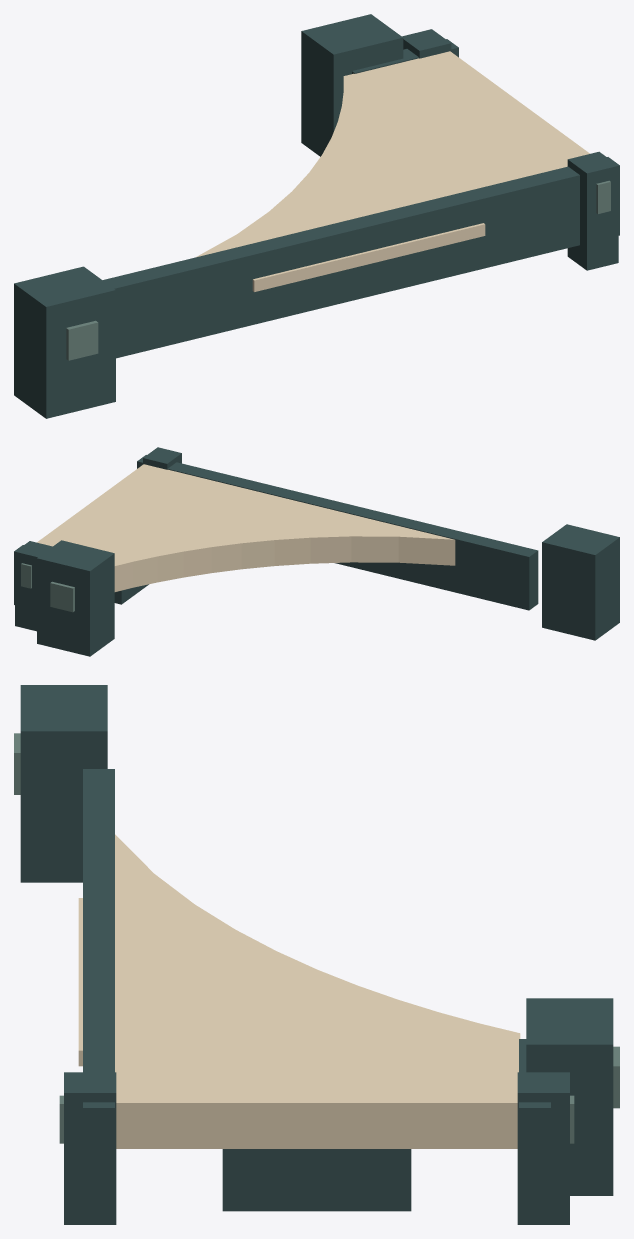
Rendered from Pier_Angled_45.glb.
3 views of the same model, one above another, from view 1: azimuth 30°, elevation 25°; view 2: azimuth 150°, elevation 25°; view 3: azimuth 270°, elevation 25° (orthographic). The views are drawn at different scales.
Parts seen in each view (by area): view 1: Pier_Angled_45; view 2: Pier_Angled_45; view 3: Pier_Angled_45.
Boxes of the visible parts, box(x1,y1,x2,y2) form: Pier_Angled_45: box(14, 14, 619, 418); Pier_Angled_45: box(14, 447, 619, 656); Pier_Angled_45: box(14, 685, 619, 1224).
Bounding box in the file's own units: 6.42 × 1.15 × 4.17.
